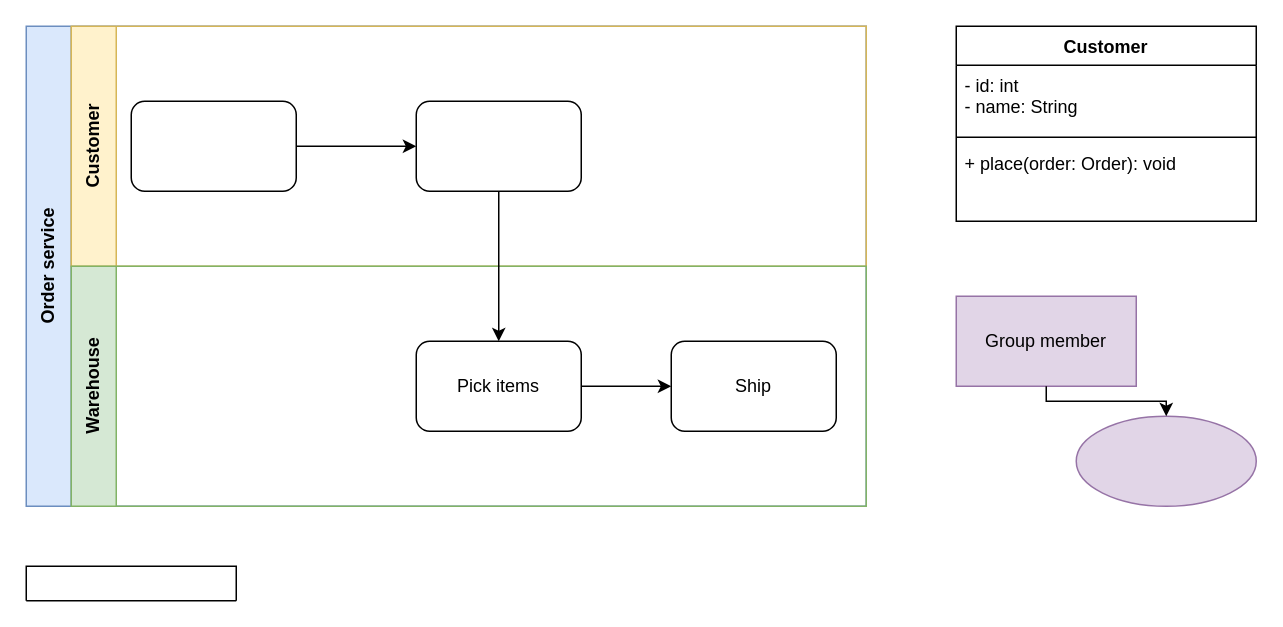
Some shapes in this 1283 by 627 pixel diagram are drawn without their labels. Each missing label, with the centre of its shape:
Another: point 1165,460
Collapsed: point 130,583
Pay: point 498,145
Place order: point 213,145
